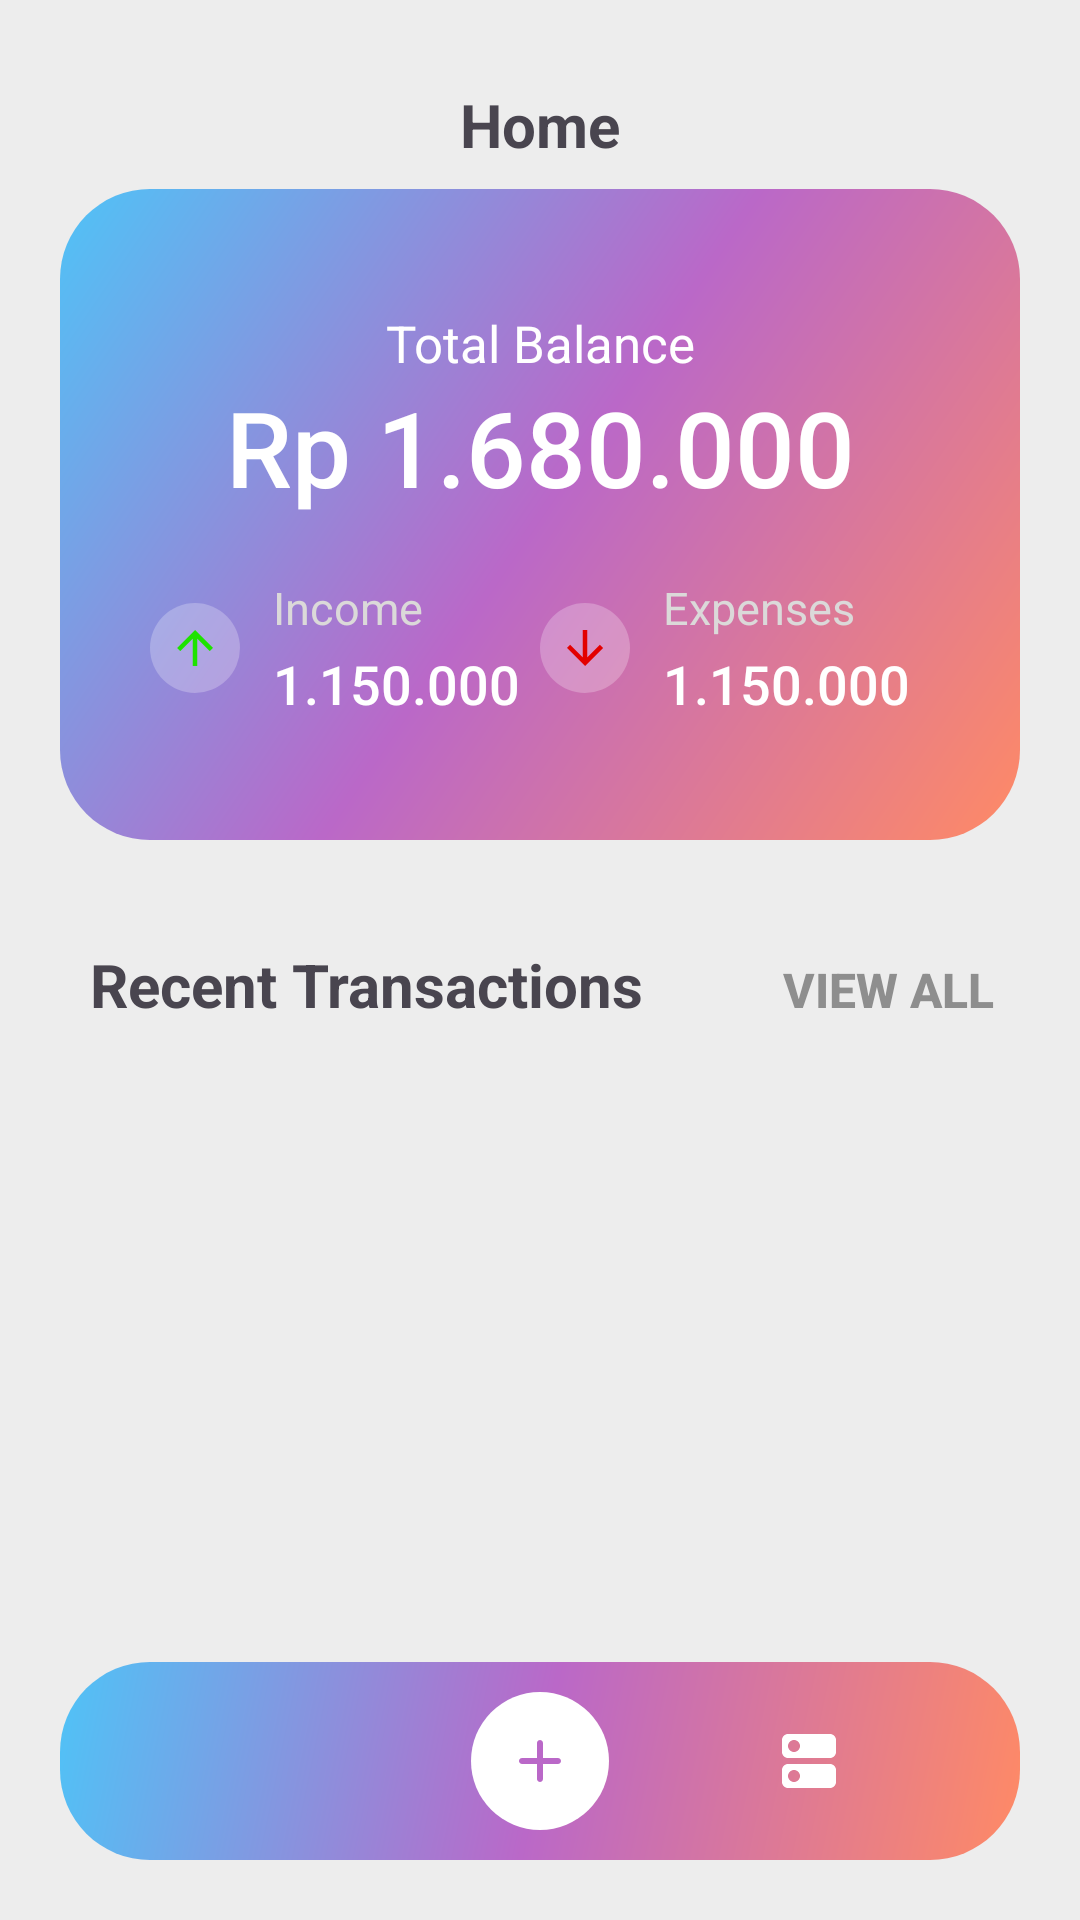

Screen size 1080×1920. Icon name, then its box in pixels as detection(x1, y1, x2, y2):
add: detection(471, 1692, 609, 1830)
arrow downward: detection(540, 603, 630, 693)
arrow upward: detection(150, 603, 240, 693)
